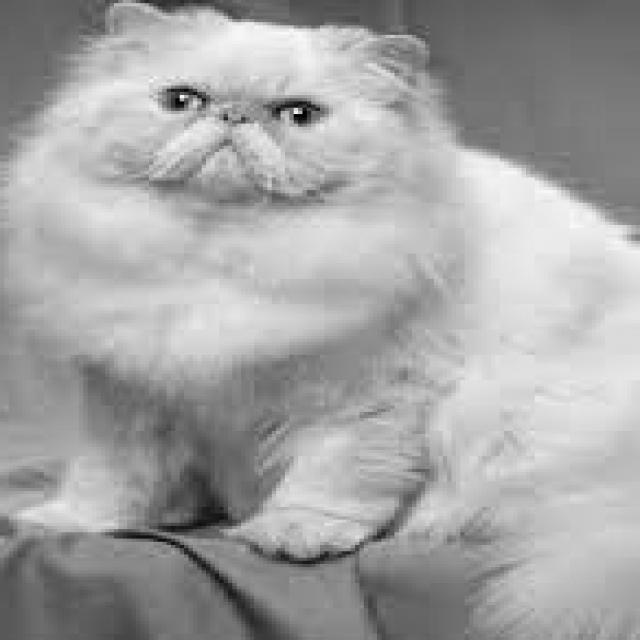iran: (81, 6, 423, 210)
